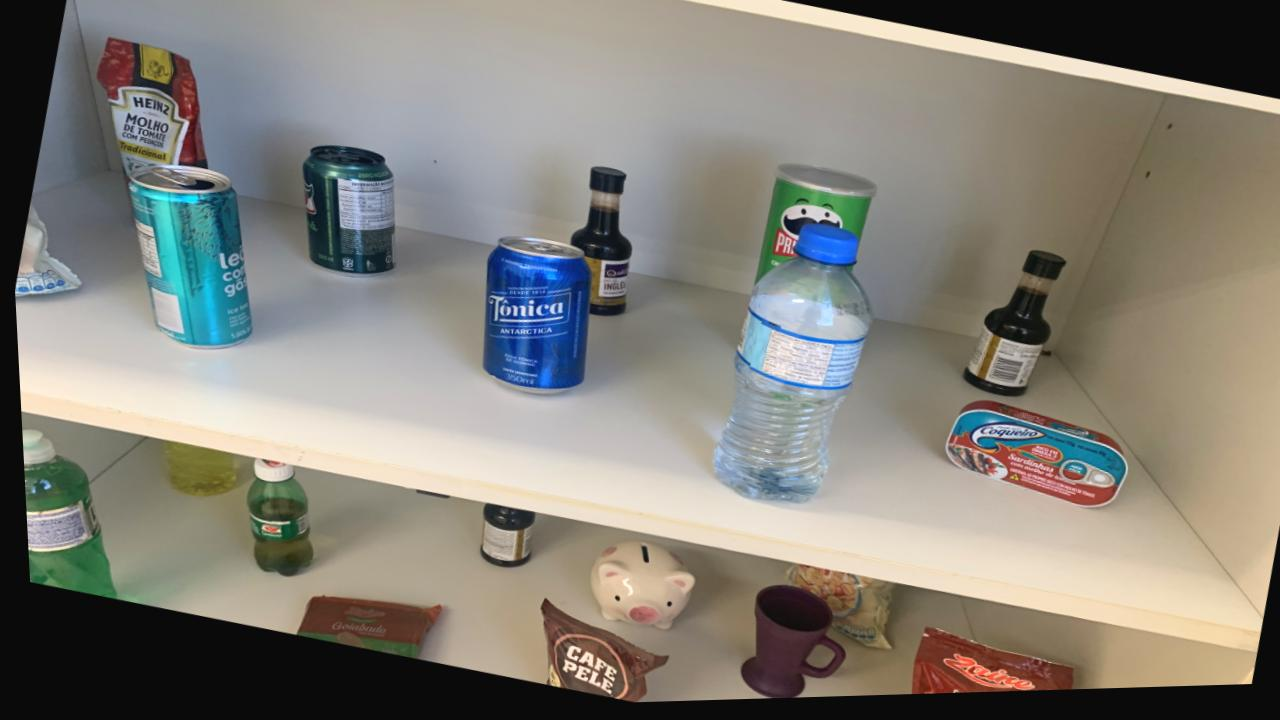Coffee-Pantry_Items: (533, 602, 661, 706)
Detergent-Cleanup_Items: (18, 429, 110, 597), (158, 440, 231, 497)
English_Sauce-Pantry_Items: (959, 256, 1063, 402), (566, 169, 629, 320), (473, 506, 530, 571)
Flakes-Snacks: (781, 568, 887, 654), (12, 205, 77, 297)
Guarana-Drinks: (239, 459, 307, 578)
Guarana_Can-Drinks: (299, 146, 392, 279)
Guava-Snacks: (291, 597, 433, 660)
Pig_Safe-Miscellaneous: (583, 544, 689, 634)
Pringles-Snacks: (753, 167, 875, 285)
Tea-Drinks: (125, 165, 248, 350)
Tomato_Sauce-Pantry_Items: (95, 38, 206, 175), (903, 633, 1065, 700)
Tonic-Drinks: (477, 240, 588, 397)
Tuna_Can-Pantry_Items: (940, 406, 1121, 514)
Water_Bottle-Drinks: (707, 228, 869, 507)
